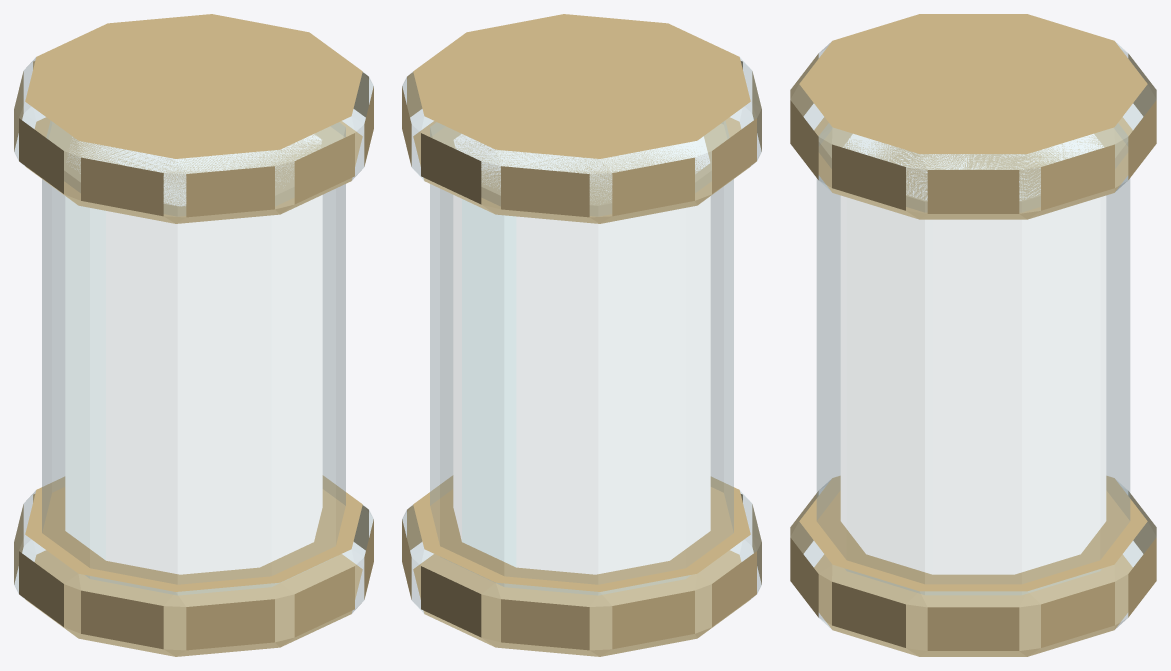
The model's file is Vial.fbx.
The picture shows the model from 3 angles, left to right: view 1: azimuth 30°, elevation 25°; view 2: azimuth 150°, elevation 25°; view 3: azimuth 270°, elevation 25°; orthographic projection.
Visible parts, largest first — view 1: Vial, Liquid.007; view 2: Vial, Liquid.007; view 3: Vial, Liquid.007.
Boxes of the visible parts, x1,y1,x2,y2 form: Vial: (14, 14, 373, 656); Liquid.007: (65, 134, 322, 574); Vial: (402, 14, 761, 656); Liquid.007: (453, 134, 710, 574); Vial: (790, 14, 1156, 656); Liquid.007: (840, 134, 1106, 574).
Bounding box in the file's own units: 0.2948 × 0.46 × 0.3038.
